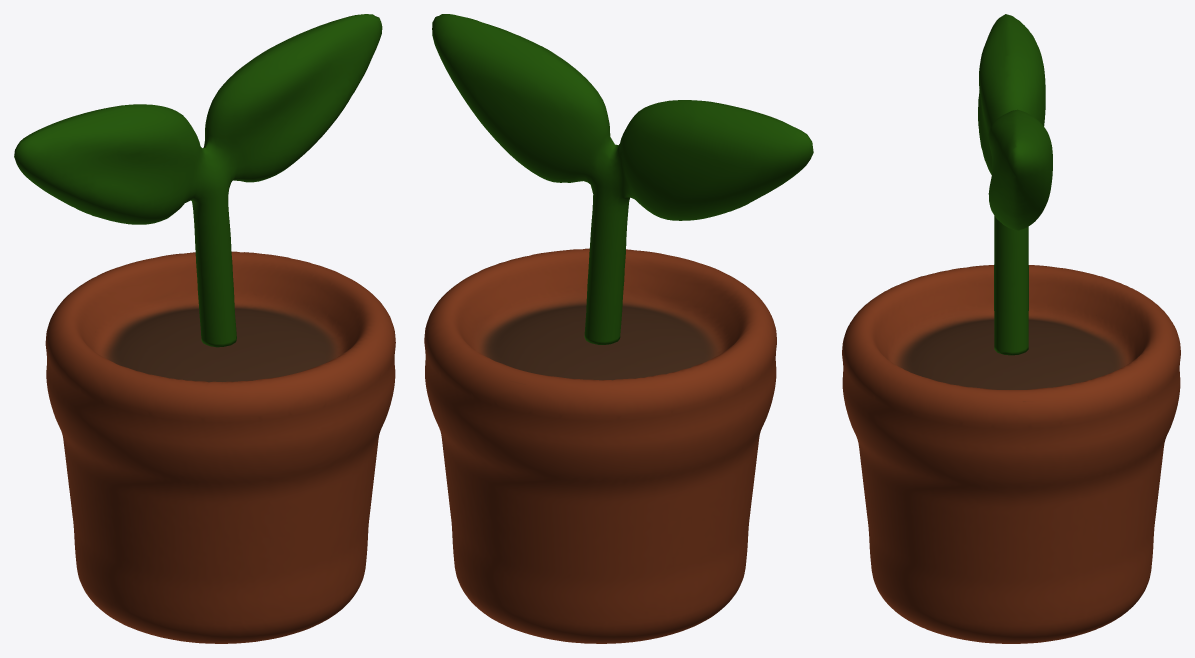
File: plantBud.glb
3 renders of one model, left to right at view 1: azimuth 30°, elevation 25°; view 2: azimuth 150°, elevation 25°; view 3: azimuth 270°, elevation 25°, orthographic. The views are drawn at different scales.
Visible parts, largest first — view 1: ClayxelContainer__1_; view 2: ClayxelContainer__1_; view 3: ClayxelContainer__1_.
Part boxes in pixels (<box>): ClayxelContainer__1_: <box>14,14,395,643</box>; ClayxelContainer__1_: <box>424,14,813,643</box>; ClayxelContainer__1_: <box>842,14,1180,643</box>.
Size of the model in its own units: 0.7191 by 1 by 0.5861.
Materials: 2 (2 with a texture image).
